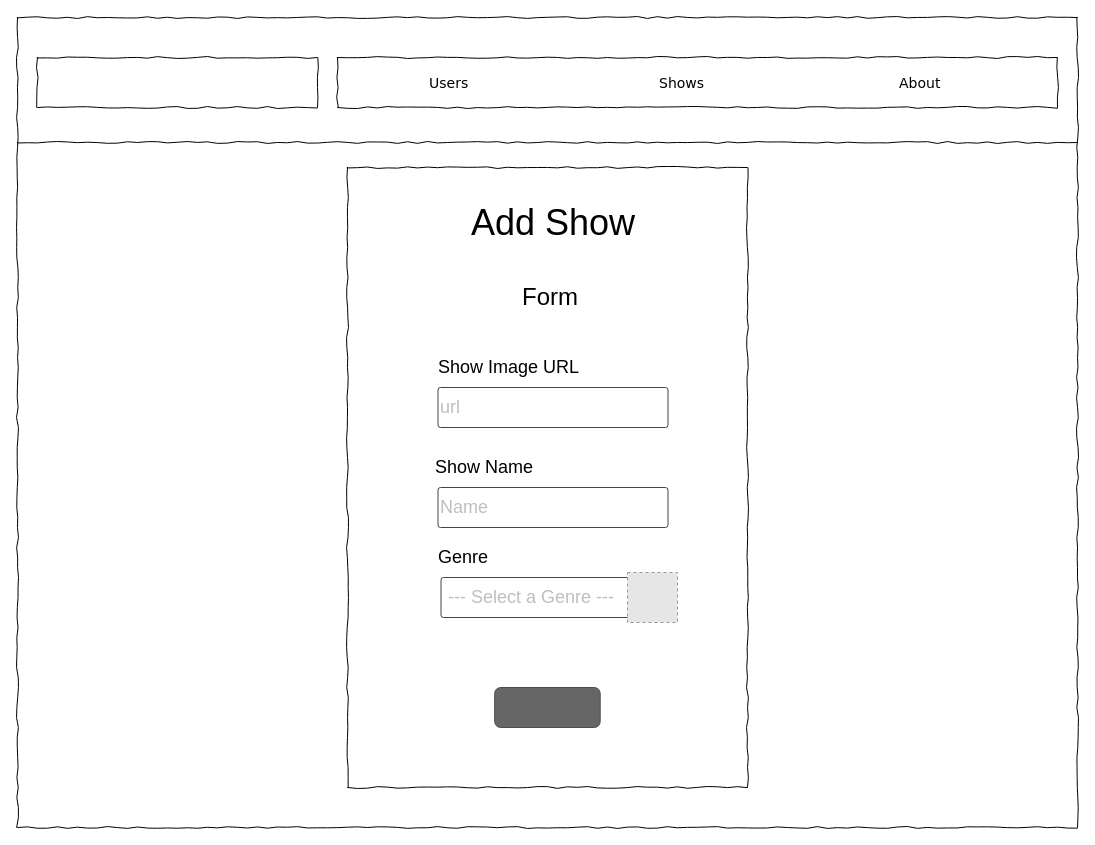
This 1095x845 diagram has some shape labels left out. Grey dashed boxes stand in for pictures. The shapes that lost their labels are listed below. From the top down, each one's centre as x and y in pixels, then its label:
[177,82]: TV Watchlist App
[547,707]: Submit
